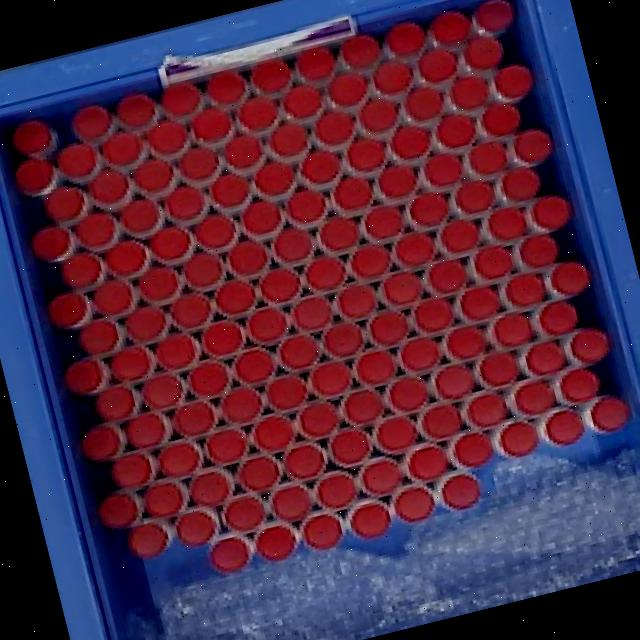vials: (77, 317, 125, 355), (81, 422, 126, 462), (373, 415, 419, 454), (125, 411, 172, 449), (328, 427, 372, 467), (201, 319, 246, 358), (417, 402, 462, 441), (64, 357, 110, 395), (339, 388, 385, 426), (512, 234, 559, 271), (182, 252, 226, 291), (283, 441, 327, 480), (474, 351, 519, 389), (97, 490, 142, 528), (236, 454, 281, 492), (468, 245, 514, 282), (94, 384, 140, 421), (532, 300, 578, 337), (14, 158, 57, 197), (125, 305, 169, 343), (245, 306, 289, 344), (276, 333, 320, 371), (187, 359, 231, 397), (172, 399, 216, 437), (219, 386, 263, 424), (405, 443, 449, 481), (359, 457, 403, 495), (251, 414, 296, 451), (111, 451, 156, 488), (110, 345, 156, 381), (170, 292, 213, 330), (144, 479, 187, 517), (315, 470, 358, 508), (149, 226, 193, 263), (155, 333, 199, 370), (423, 258, 467, 295), (384, 376, 428, 413), (296, 401, 340, 438), (189, 468, 233, 505), (464, 391, 508, 428), (410, 298, 455, 334), (352, 349, 397, 385), (204, 428, 249, 464), (75, 211, 117, 249), (60, 251, 103, 288), (334, 283, 377, 320), (379, 270, 422, 307), (232, 347, 275, 384), (141, 372, 184, 409), (398, 336, 441, 373), (213, 279, 257, 315), (320, 322, 364, 358), (308, 361, 352, 397), (158, 440, 202, 476), (291, 295, 333, 332), (266, 374, 308, 411), (270, 483, 312, 520), (175, 509, 217, 546), (43, 185, 86, 221), (30, 225, 73, 261), (258, 267, 301, 303), (366, 310, 409, 346), (222, 494, 265, 530), (349, 501, 390, 538), (48, 291, 90, 327), (559, 367, 601, 403), (127, 522, 169, 558), (301, 513, 343, 549), (393, 485, 435, 521), (490, 312, 533, 347), (11, 119, 52, 155), (105, 239, 146, 275), (255, 524, 296, 560), (138, 266, 180, 301), (549, 260, 591, 295), (433, 364, 475, 399), (570, 327, 610, 363), (590, 395, 630, 431), (191, 107, 232, 142), (272, 227, 313, 262), (350, 244, 391, 279), (514, 379, 555, 414), (146, 120, 188, 154), (479, 102, 521, 136), (285, 189, 327, 223), (304, 256, 346, 290), (226, 240, 269, 273), (443, 326, 486, 359), (93, 279, 132, 315), (499, 420, 538, 456), (210, 536, 249, 572), (237, 95, 277, 130), (314, 110, 354, 145), (513, 128, 553, 163), (525, 340, 565, 375), (340, 34, 381, 68), (250, 58, 291, 92), (281, 84, 322, 118), (463, 35, 504, 69), (209, 173, 250, 207), (458, 286, 499, 320), (253, 161, 295, 194), (317, 216, 359, 249), (454, 431, 492, 467), (404, 86, 443, 121), (120, 198, 159, 233), (545, 409, 584, 444), (441, 474, 480, 509), (206, 70, 246, 104), (57, 143, 97, 177), (102, 131, 142, 165), (268, 122, 308, 156), (133, 158, 173, 192), (88, 169, 128, 203), (241, 200, 281, 234), (501, 167, 541, 201), (434, 114, 475, 147), (473, 0, 515, 32), (430, 10, 469, 44), (328, 72, 367, 106), (494, 64, 533, 98), (358, 98, 397, 132), (505, 273, 544, 307), (116, 93, 156, 126), (223, 134, 263, 167), (300, 150, 340, 183), (363, 205, 403, 238), (531, 195, 571, 228), (439, 219, 479, 252), (386, 21, 424, 55), (296, 46, 334, 80), (449, 75, 487, 109), (161, 82, 200, 115), (372, 60, 411, 93), (417, 48, 456, 81), (333, 177, 372, 210), (71, 105, 111, 137), (178, 147, 218, 179), (165, 185, 205, 217), (195, 215, 235, 247), (394, 232, 435, 263), (347, 138, 385, 171), (424, 153, 462, 186), (410, 192, 448, 225), (487, 207, 525, 240), (455, 180, 494, 212), (391, 125, 428, 158), (469, 142, 507, 174), (378, 166, 416, 198)
